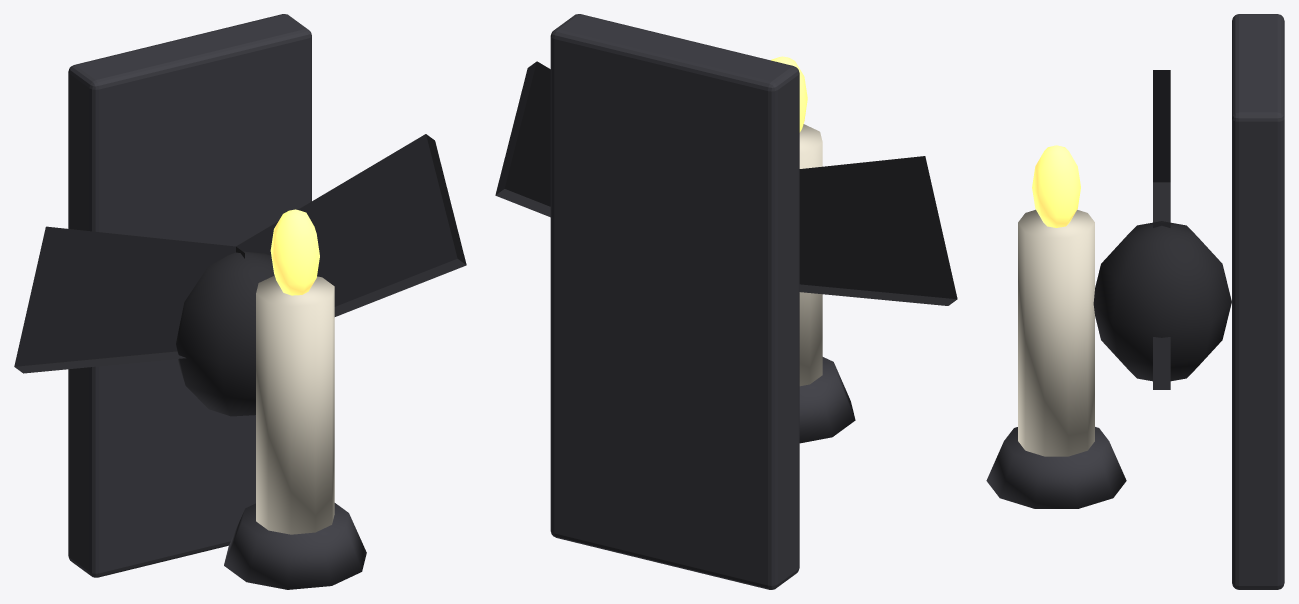
File: sconce_bat_sconce.glb
3 views of the same model, side by side, from view 1: azimuth 30°, elevation 25°; view 2: azimuth 150°, elevation 25°; view 3: azimuth 270°, elevation 25° (orthographic). The views are drawn at different scales.
Visible parts, largest first — view 1: GD_sconce_bat_sconce__m0, GD_sconce_bat_sconce__m1, GD_sconce_bat_sconce__m2, GD_sconce_bat_sconce__m3; view 2: GD_sconce_bat_sconce__m0, GD_sconce_bat_sconce__m1, GD_sconce_bat_sconce__m2; view 3: GD_sconce_bat_sconce__m0, GD_sconce_bat_sconce__m1, GD_sconce_bat_sconce__m2, GD_sconce_bat_sconce__m3.
Boxes of the visible parts, bbox=[...] form: GD_sconce_bat_sconce__m0: bbox=[68, 14, 366, 589]; GD_sconce_bat_sconce__m1: bbox=[14, 134, 466, 416]; GD_sconce_bat_sconce__m2: bbox=[256, 275, 334, 534]; GD_sconce_bat_sconce__m3: bbox=[270, 209, 319, 295]; GD_sconce_bat_sconce__m0: bbox=[550, 14, 855, 589]; GD_sconce_bat_sconce__m1: bbox=[495, 61, 957, 305]; GD_sconce_bat_sconce__m2: bbox=[799, 124, 822, 386]; GD_sconce_bat_sconce__m0: bbox=[986, 14, 1284, 589]; GD_sconce_bat_sconce__m1: bbox=[1093, 70, 1231, 389]; GD_sconce_bat_sconce__m2: bbox=[1018, 209, 1094, 456]; GD_sconce_bat_sconce__m3: bbox=[1032, 145, 1080, 227].
Size of the model in its own units: 0.28 by 0.3 by 0.17.
